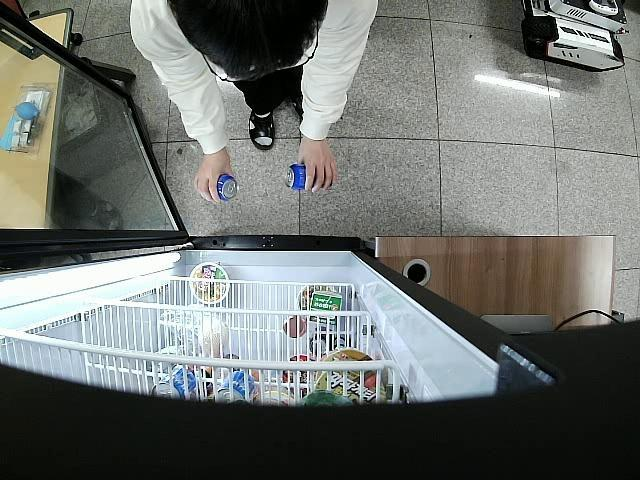13_pocariSweat: (283, 164, 334, 191), (214, 171, 237, 200)
